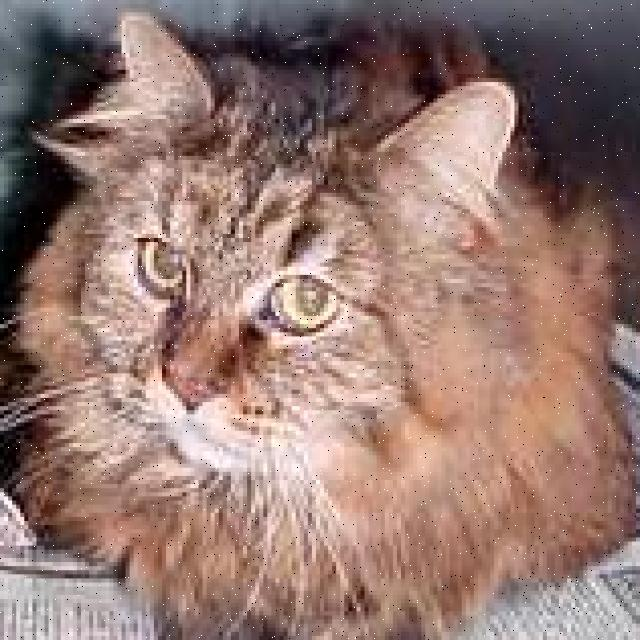Cat: (41, 13, 528, 487)
